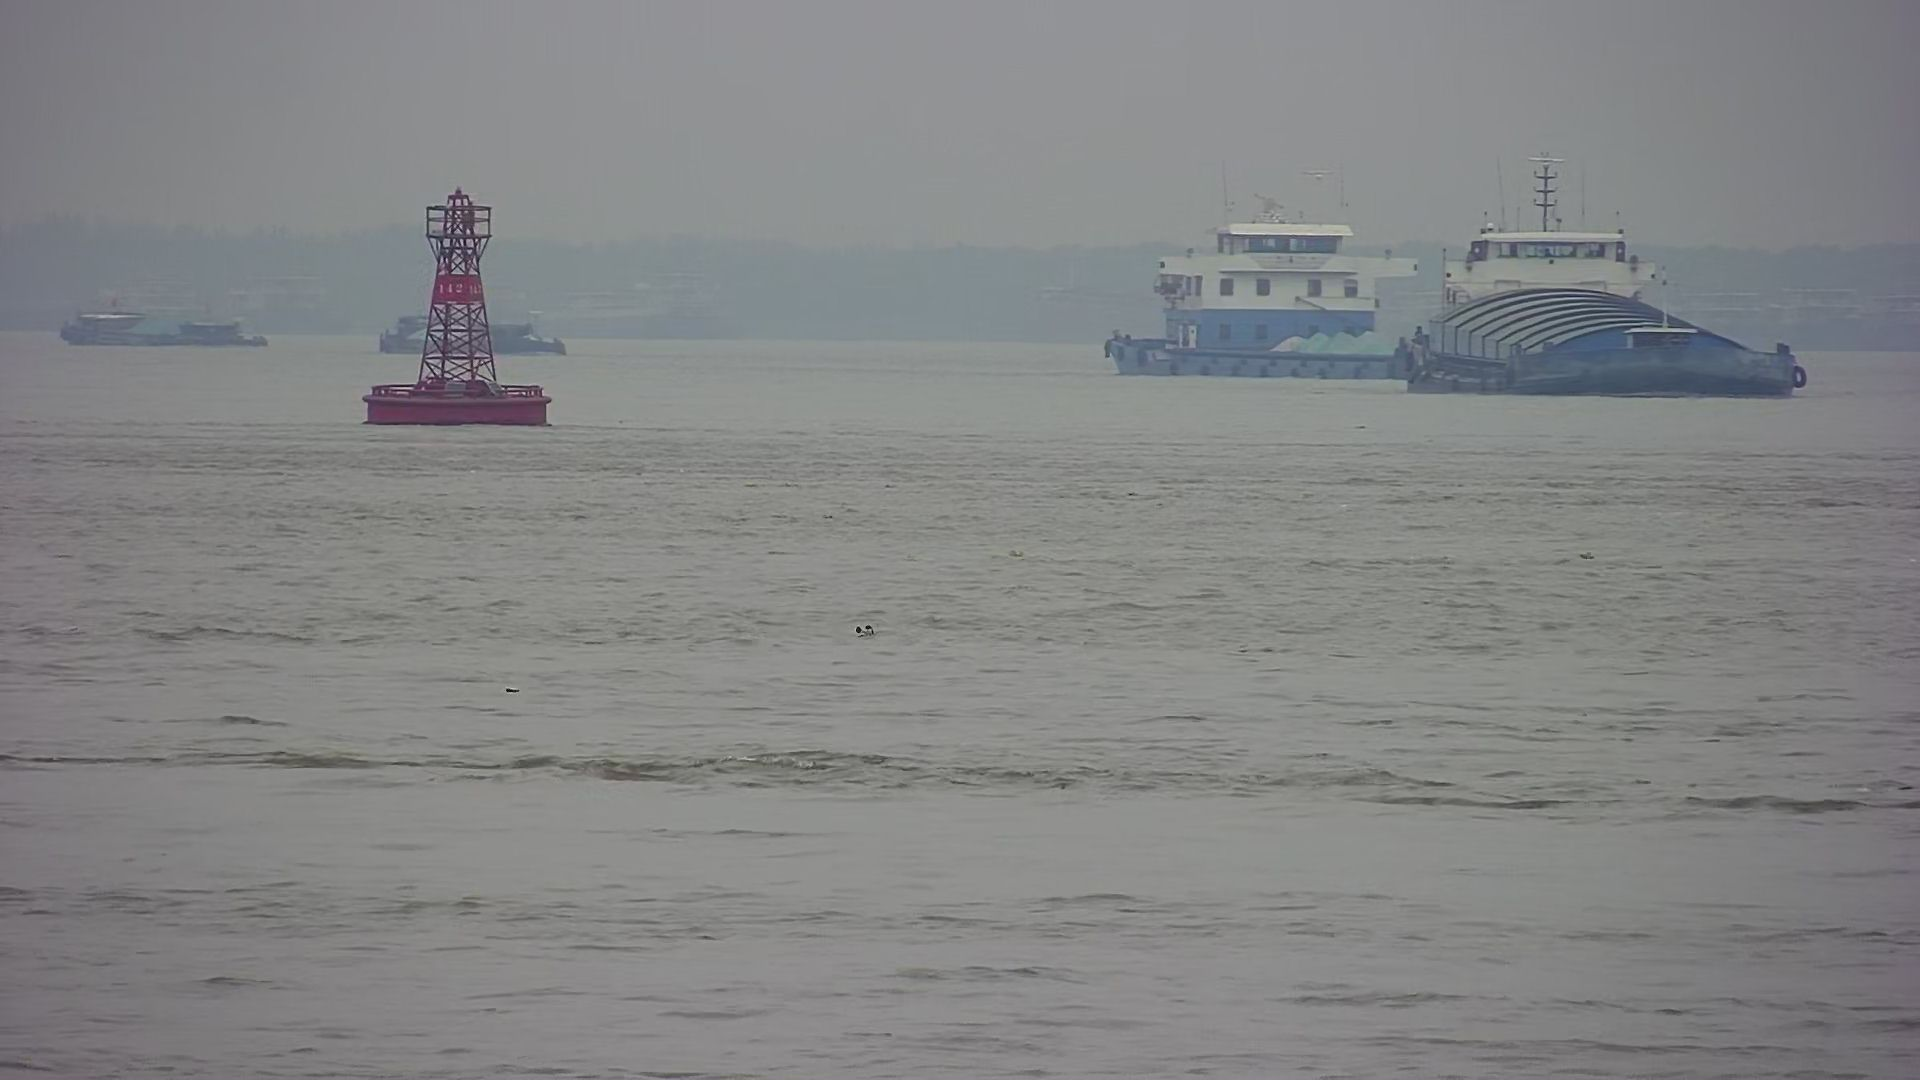buoy: (357, 179, 567, 435)
ship: (1393, 148, 1829, 407), (1089, 133, 1437, 388), (34, 287, 287, 355), (363, 301, 575, 360)
